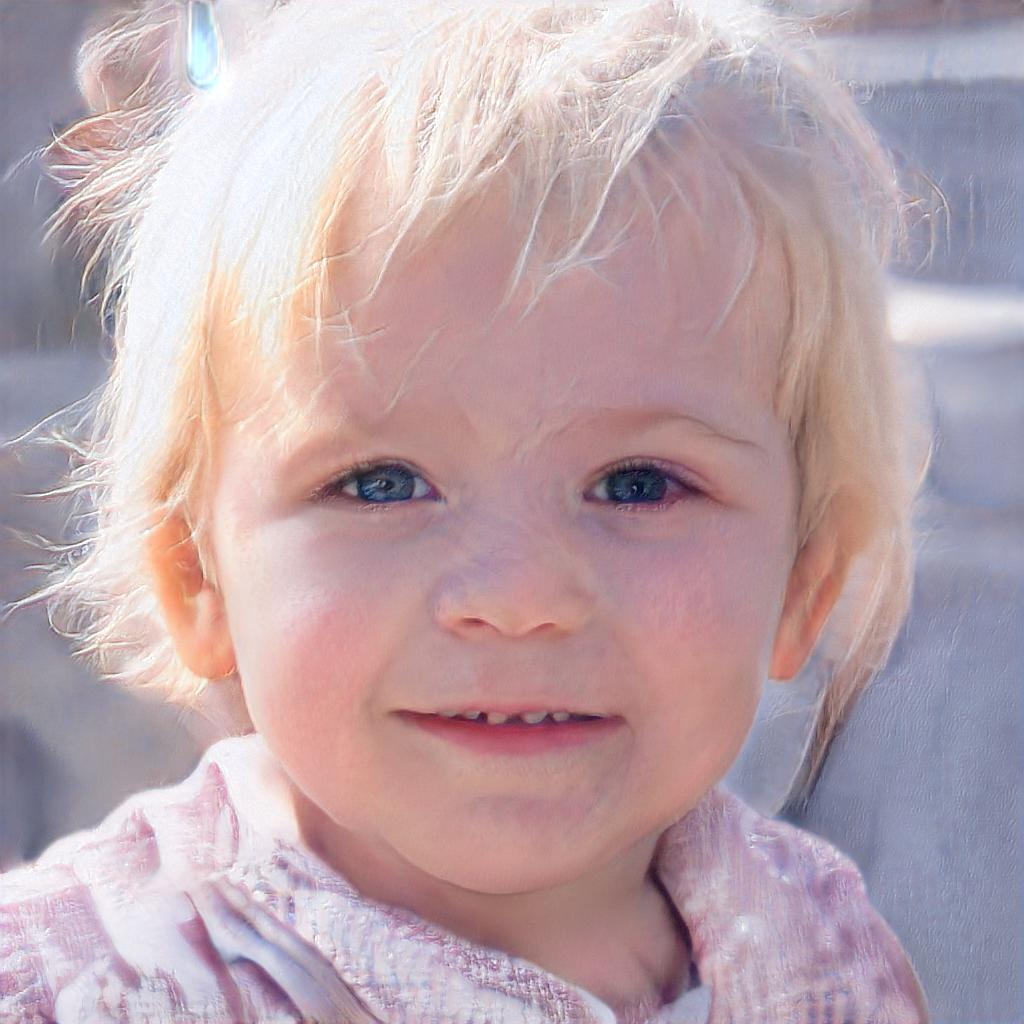face: (214, 178, 796, 894)
